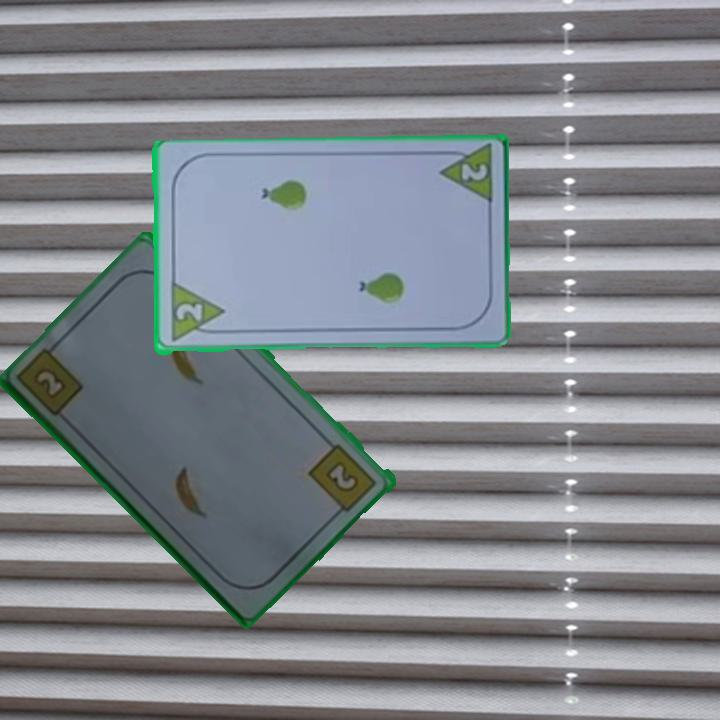2b: (305, 440, 381, 519), (33, 367, 70, 403)
2p: (434, 144, 495, 209), (166, 281, 226, 345)
